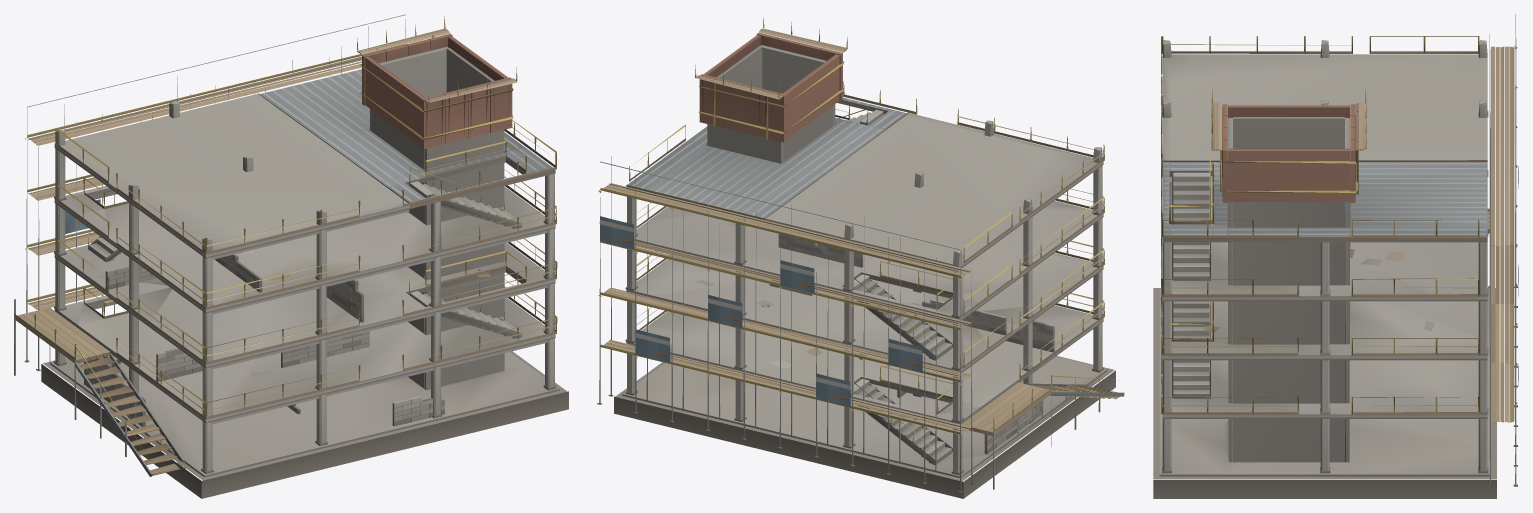
The model's file is tower.lod1.glb.
The picture shows the model from 3 angles, left to right: view 1: azimuth 30°, elevation 25°; view 2: azimuth 150°, elevation 25°; view 3: azimuth 270°, elevation 25°; orthographic projection. The views are drawn at different scales.
Size of the model in its own units: 27.78 by 21.56 by 20.24.
